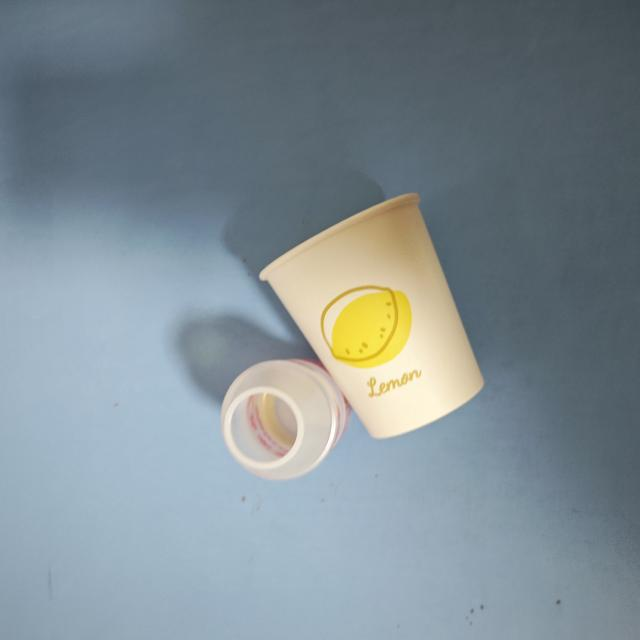-Recyclables - paper cup-: (258, 190, 484, 436)
-Recyclables - plastic bottle-: (217, 355, 353, 481)
